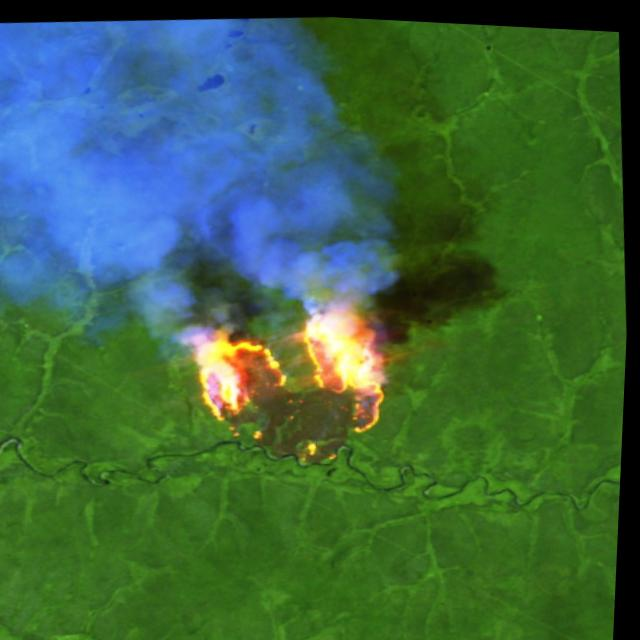fire: (169, 278, 410, 478)
